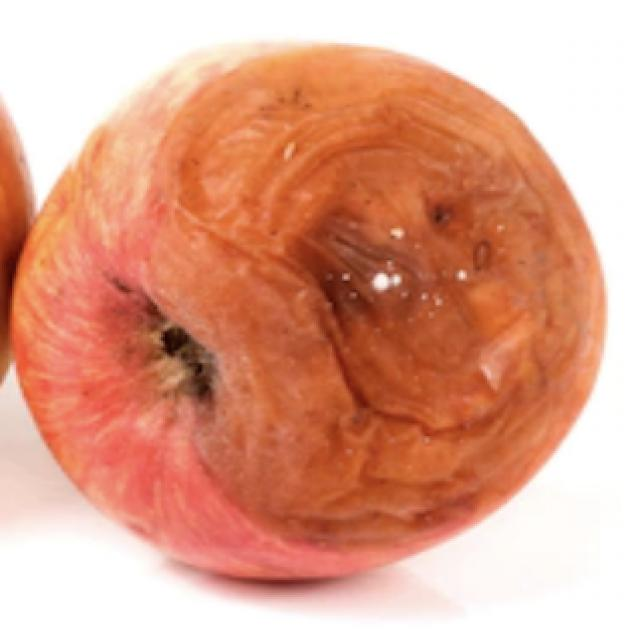rotten_apple: (9, 39, 604, 587)
